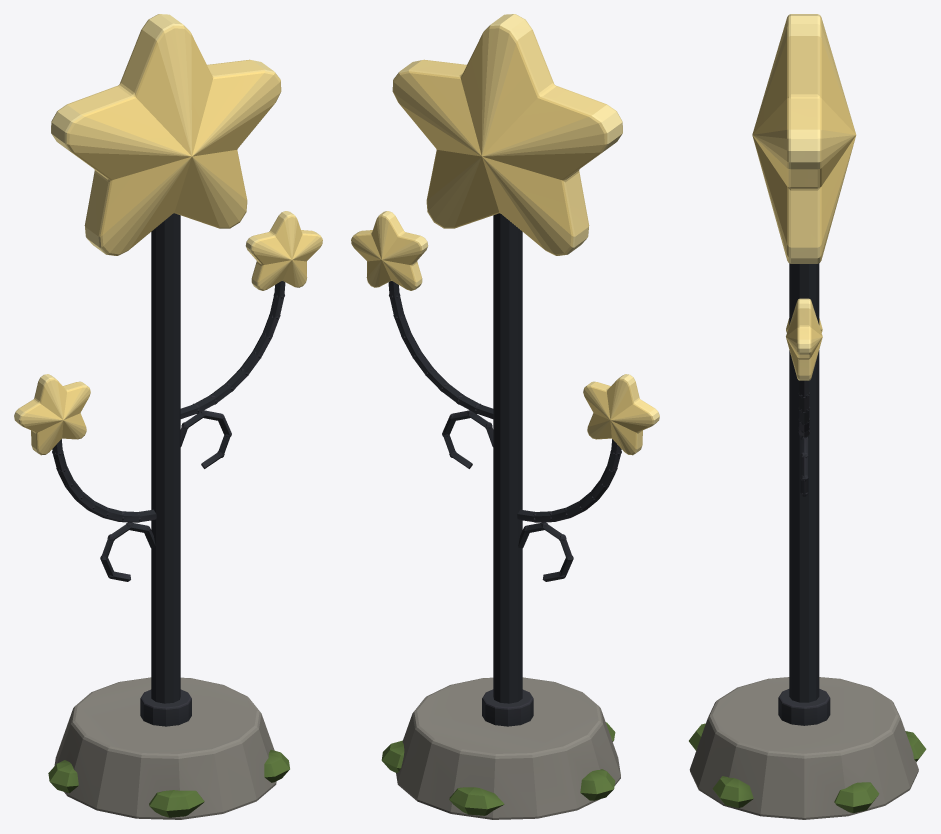
The model's file is star_ornament.glb.
3 renders of one model, left to right at view 1: azimuth 30°, elevation 25°; view 2: azimuth 150°, elevation 25°; view 3: azimuth 270°, elevation 25°, orthographic.
Bounding box in the file's own units: 0.6087 × 1.44 × 0.4116.
